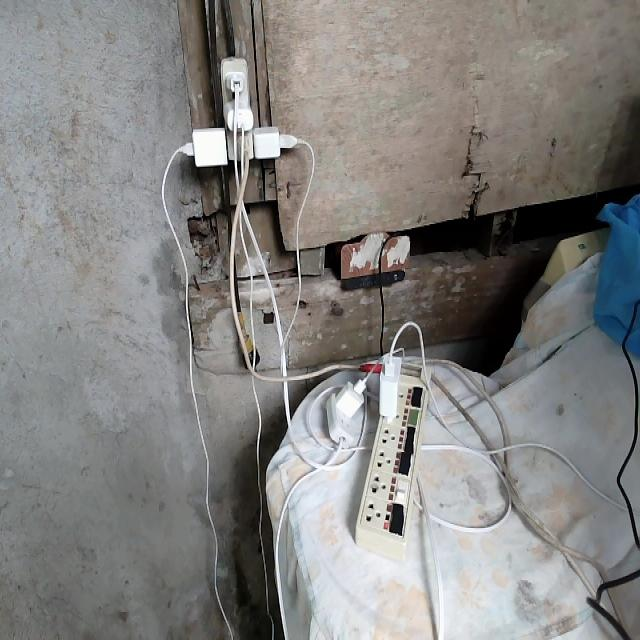-: (173, 56, 302, 172)
